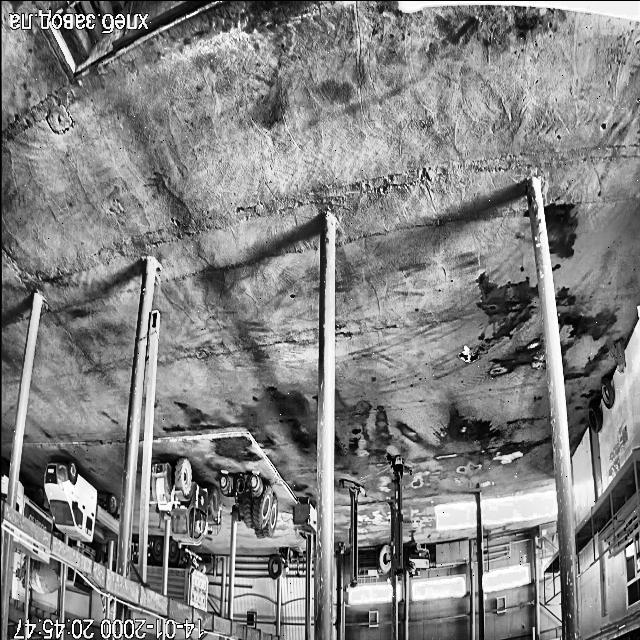car lift: (340, 479, 365, 588), (388, 454, 410, 572)
fire extinguisher: (616, 340, 624, 372)
tractor: (151, 458, 220, 546), (220, 474, 278, 538)
truck: (44, 460, 118, 540), (168, 540, 208, 612), (16, 482, 52, 532), (29, 559, 60, 595), (146, 538, 163, 592), (12, 538, 48, 562), (66, 567, 92, 595), (68, 542, 102, 563), (0, 462, 8, 500), (132, 543, 141, 563), (130, 570, 136, 580), (20, 573, 23, 580)
